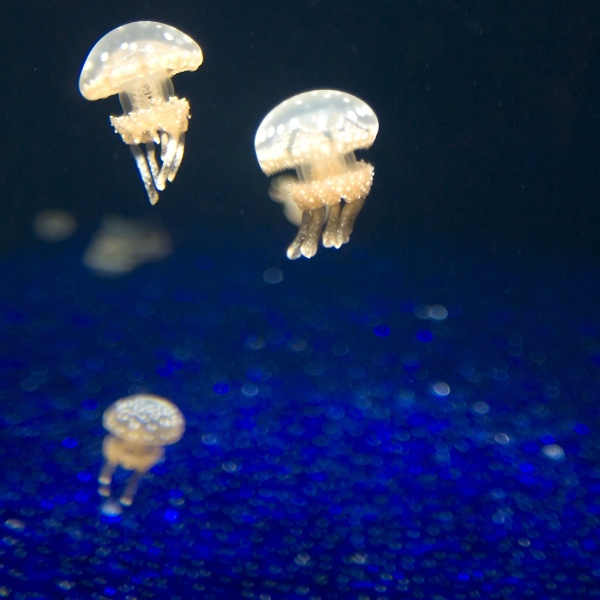Jellyfish: (80, 19, 207, 203), (244, 90, 381, 260), (97, 394, 183, 508)
